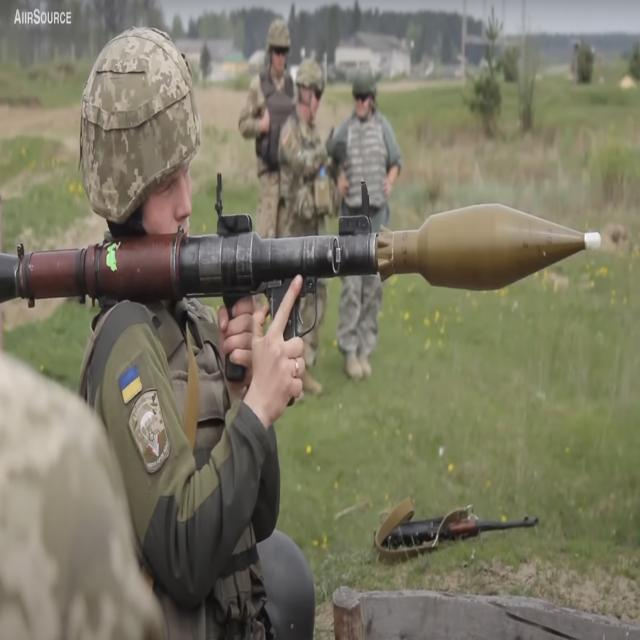bazooka: (2, 176, 613, 371)
